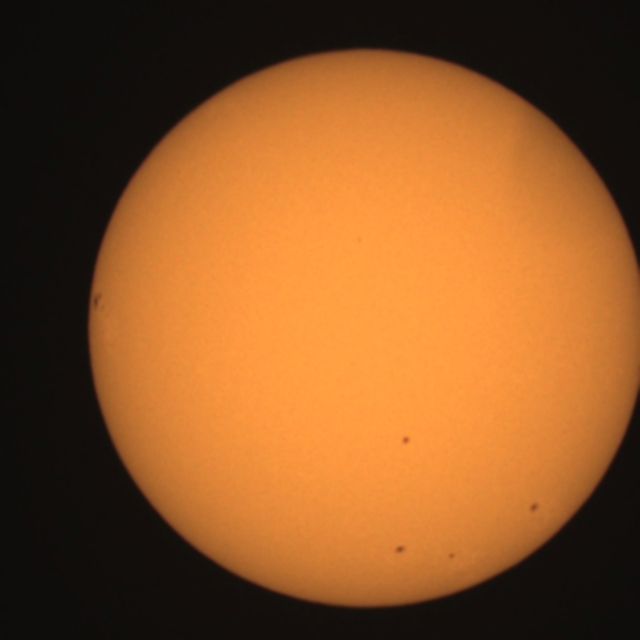sunspot: (90, 290, 105, 314), (528, 500, 541, 514), (400, 434, 412, 447), (393, 544, 407, 555), (354, 234, 365, 247), (448, 552, 456, 560)
